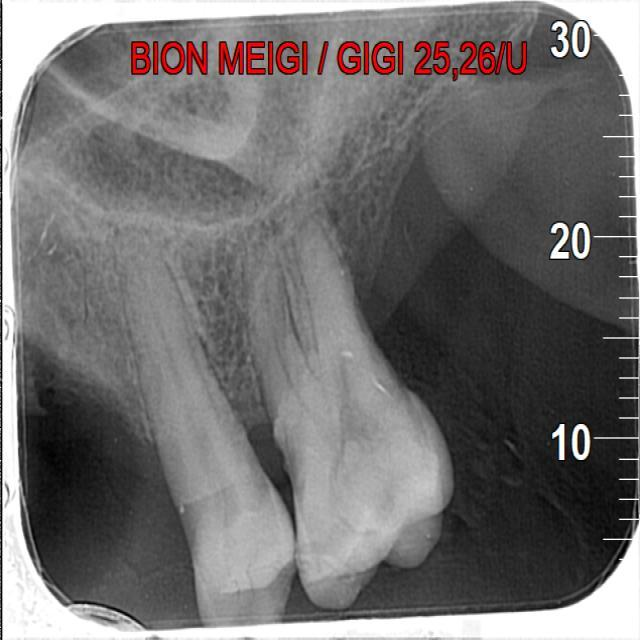individual-tooth-8tto: (236, 226, 454, 600), (120, 250, 298, 639)
